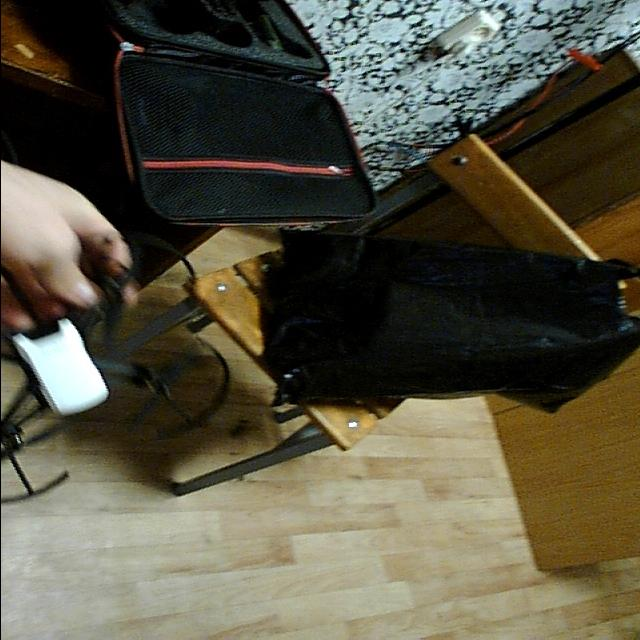drone: (0, 215, 245, 512)
